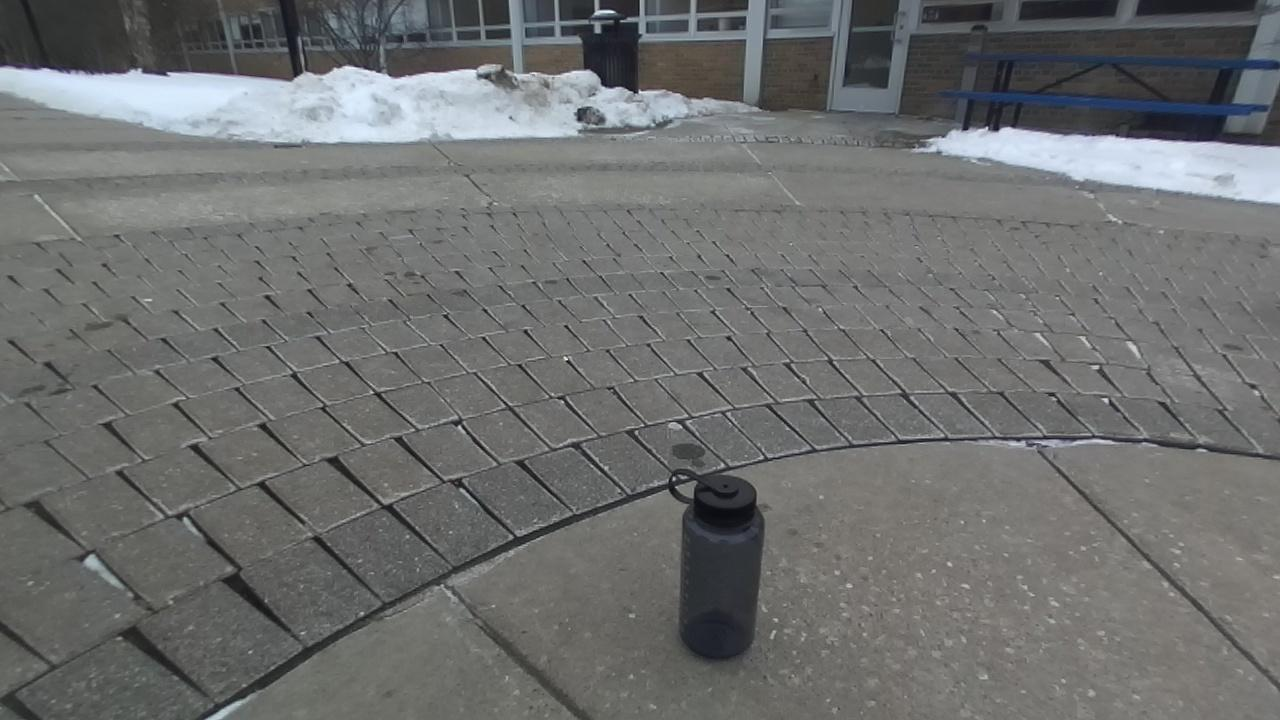bottle: (668, 468, 764, 658)
